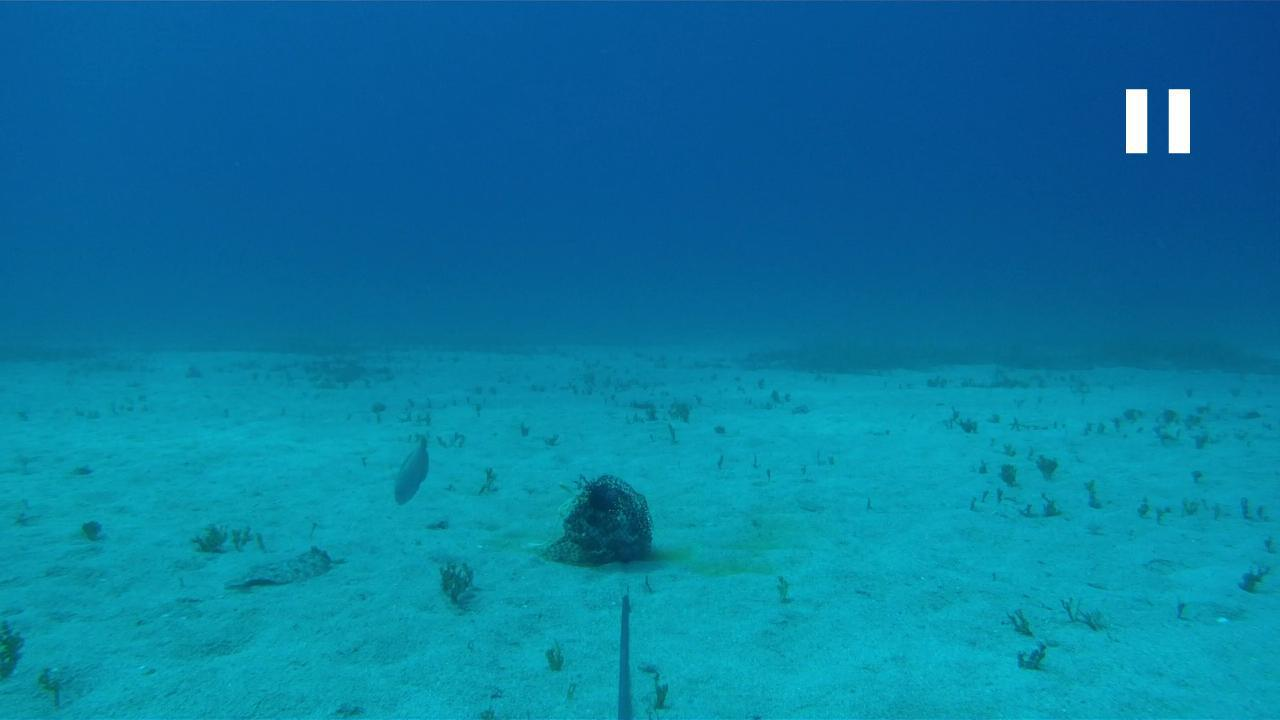bothus: (222, 542, 339, 592)
raor: (392, 434, 430, 506)
